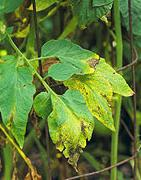Tomato Early blight leaf: (45, 88, 89, 169), (0, 51, 32, 147), (37, 44, 103, 78)
